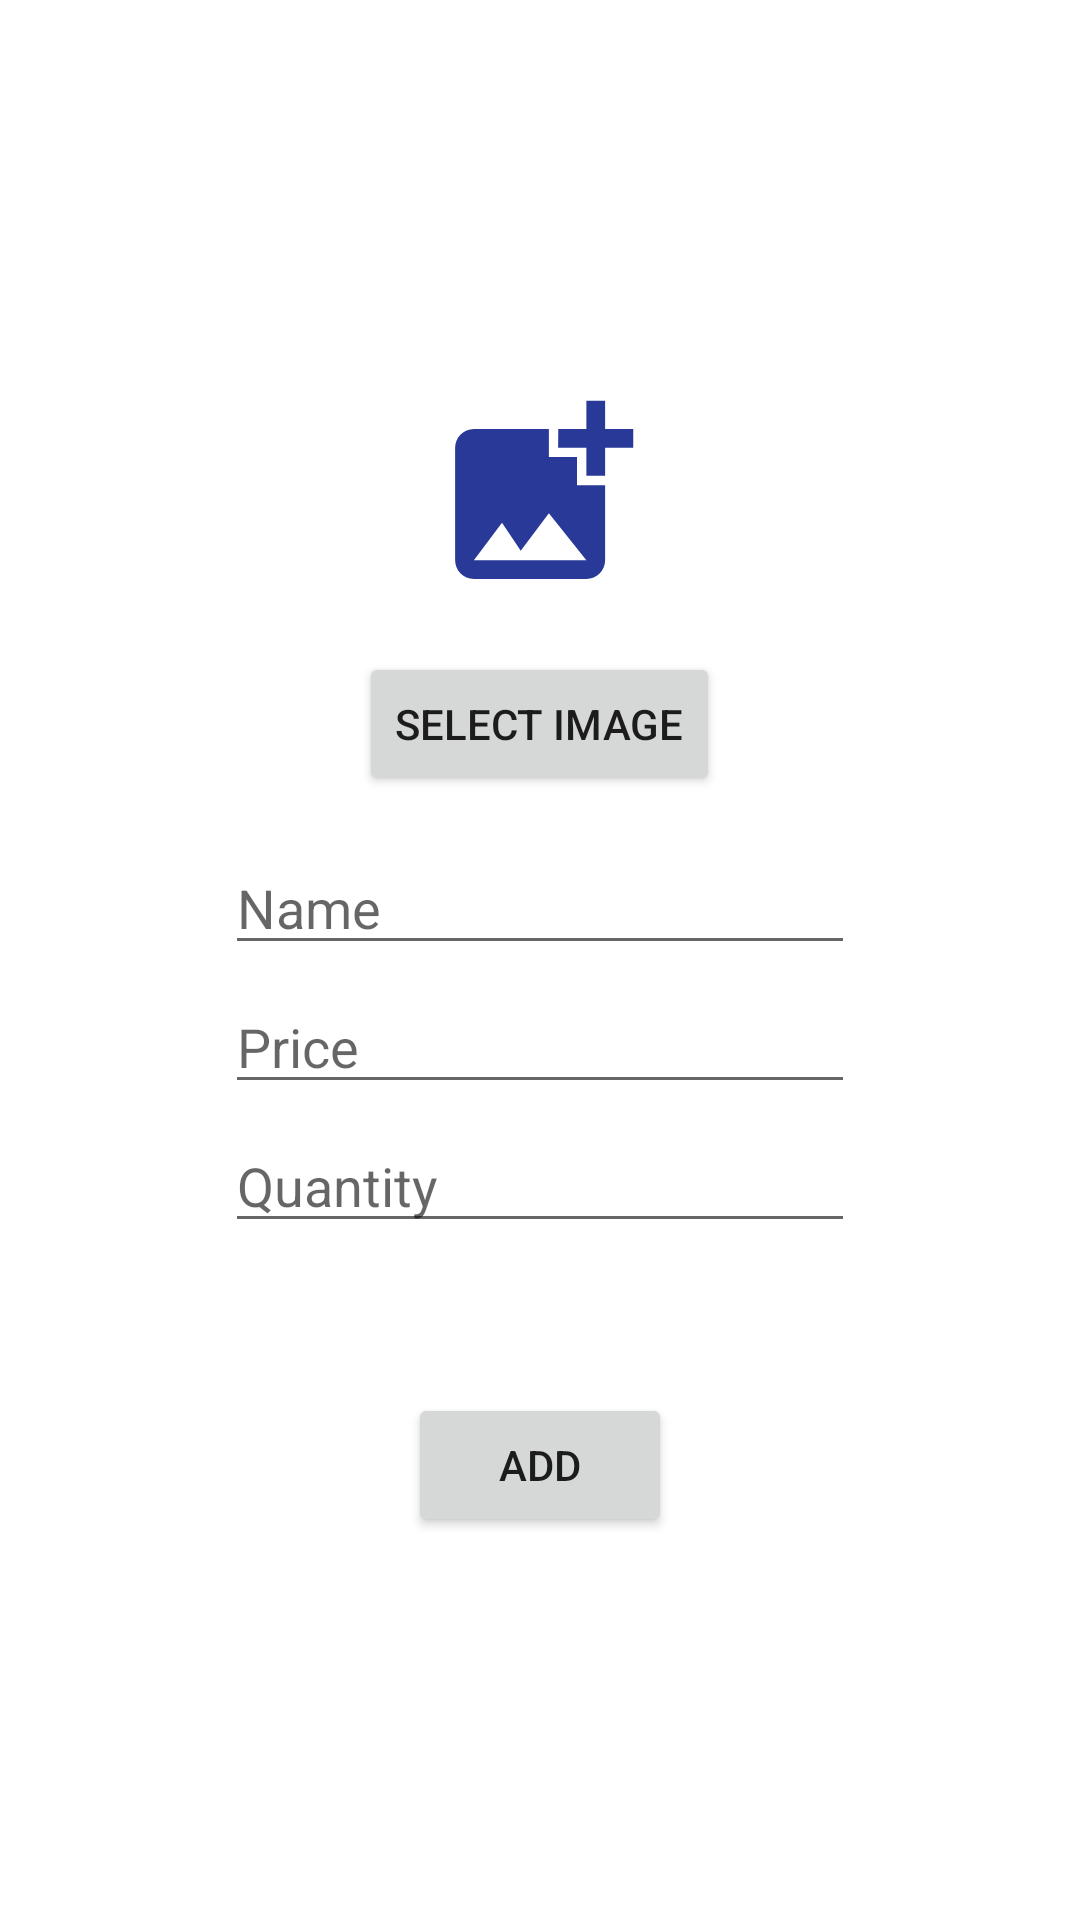

Icons on this 1080 x 1920 Android screen, each with the point to tap as (x,y):
add photo alternate: (544,489)
